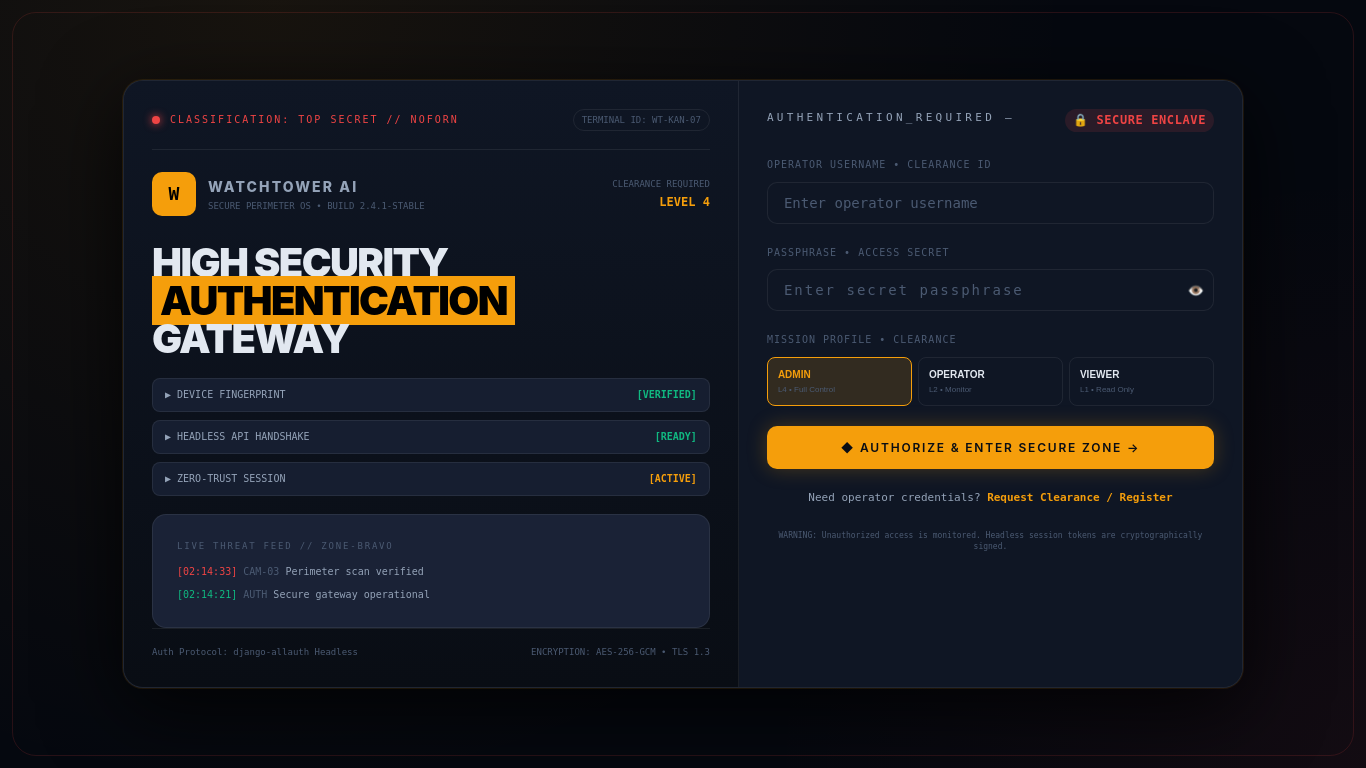
Test: Auth Integration Tests (MSW + React Testing Library) › Scenario 3: Login with pending verification — redirects to /verify-email/pending
Type "pending_user" into the field with test id "login-username-input" at (990, 203), box [767, 182, 1214, 224]
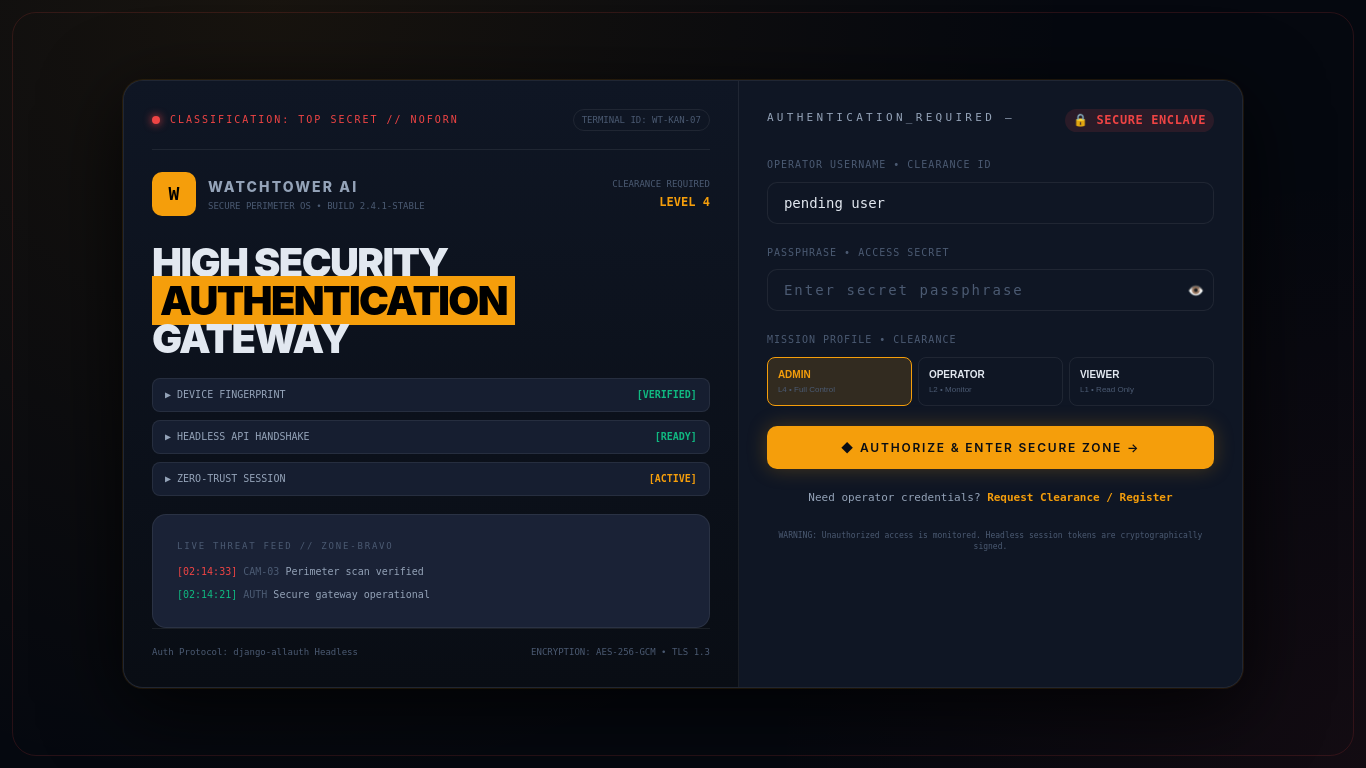
Type "StrongPass123!" into the password field with test id "login-password-input" at (990, 290), box [767, 269, 1214, 311]
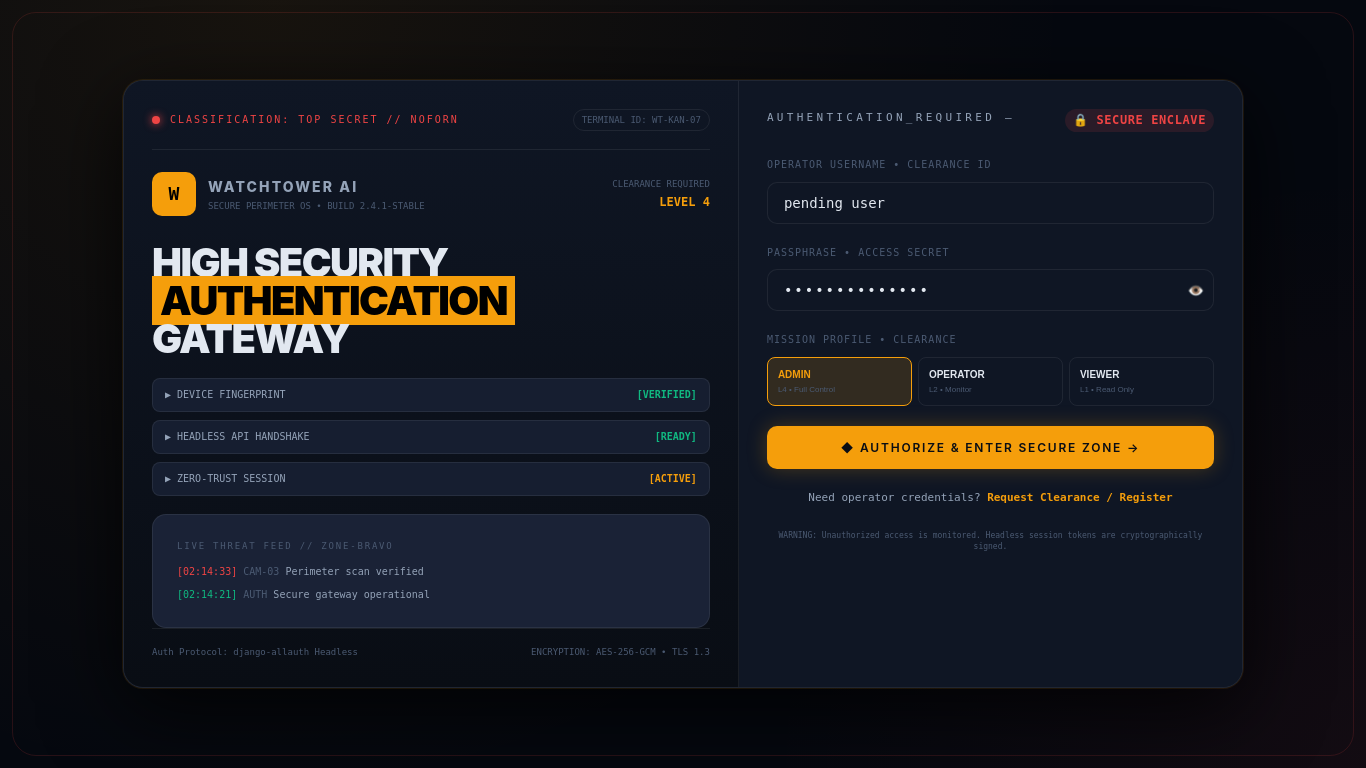
Click the button with test id "login-submit-button" at (990, 447), box [767, 426, 1214, 468]
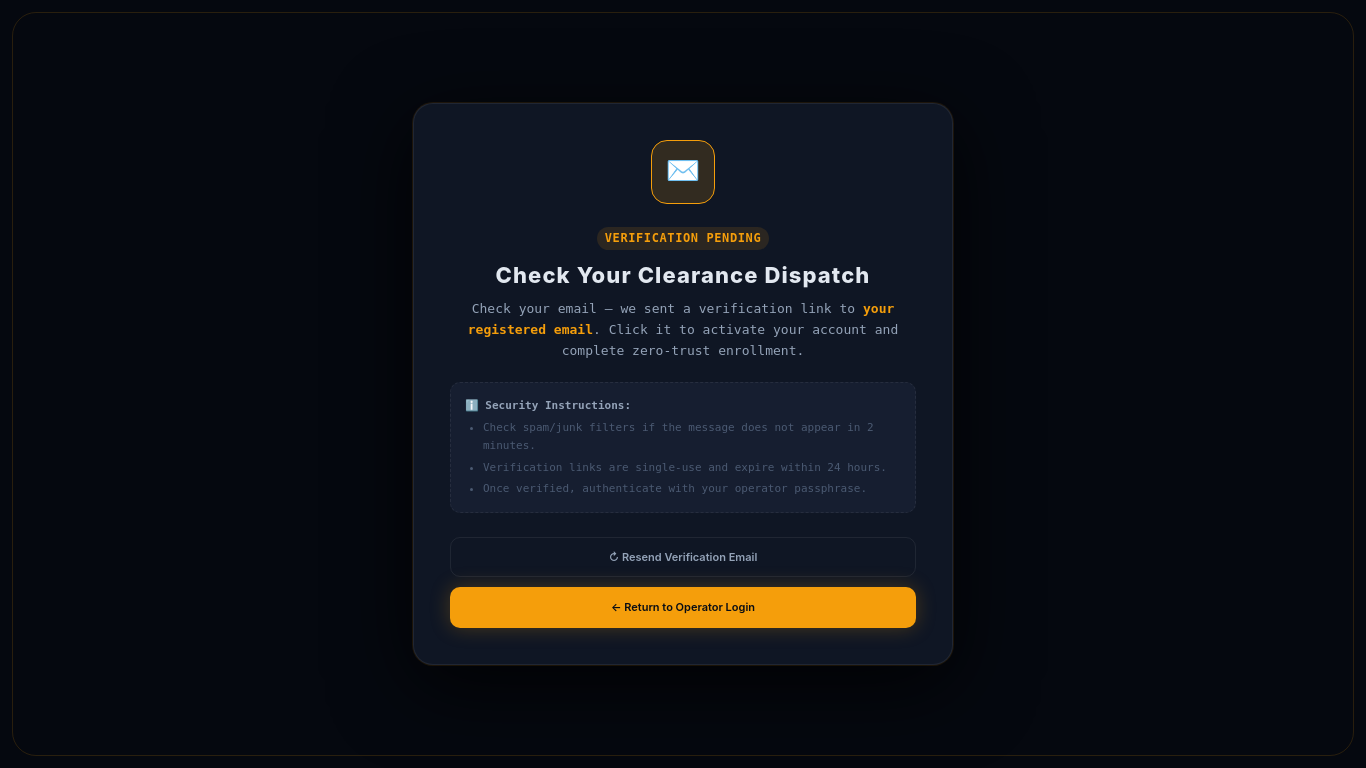
Expected: the heading "Check Your Clearance Dispatch" is shown, [496, 262, 870, 288]
